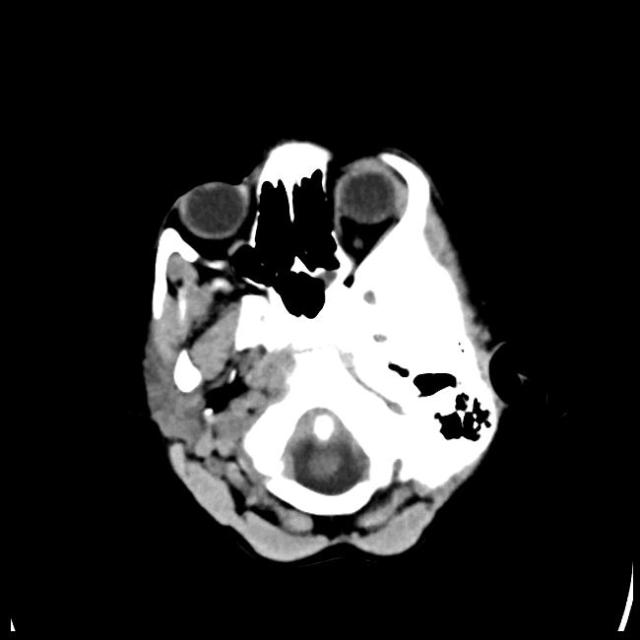lesion: (138, 135, 522, 565)
